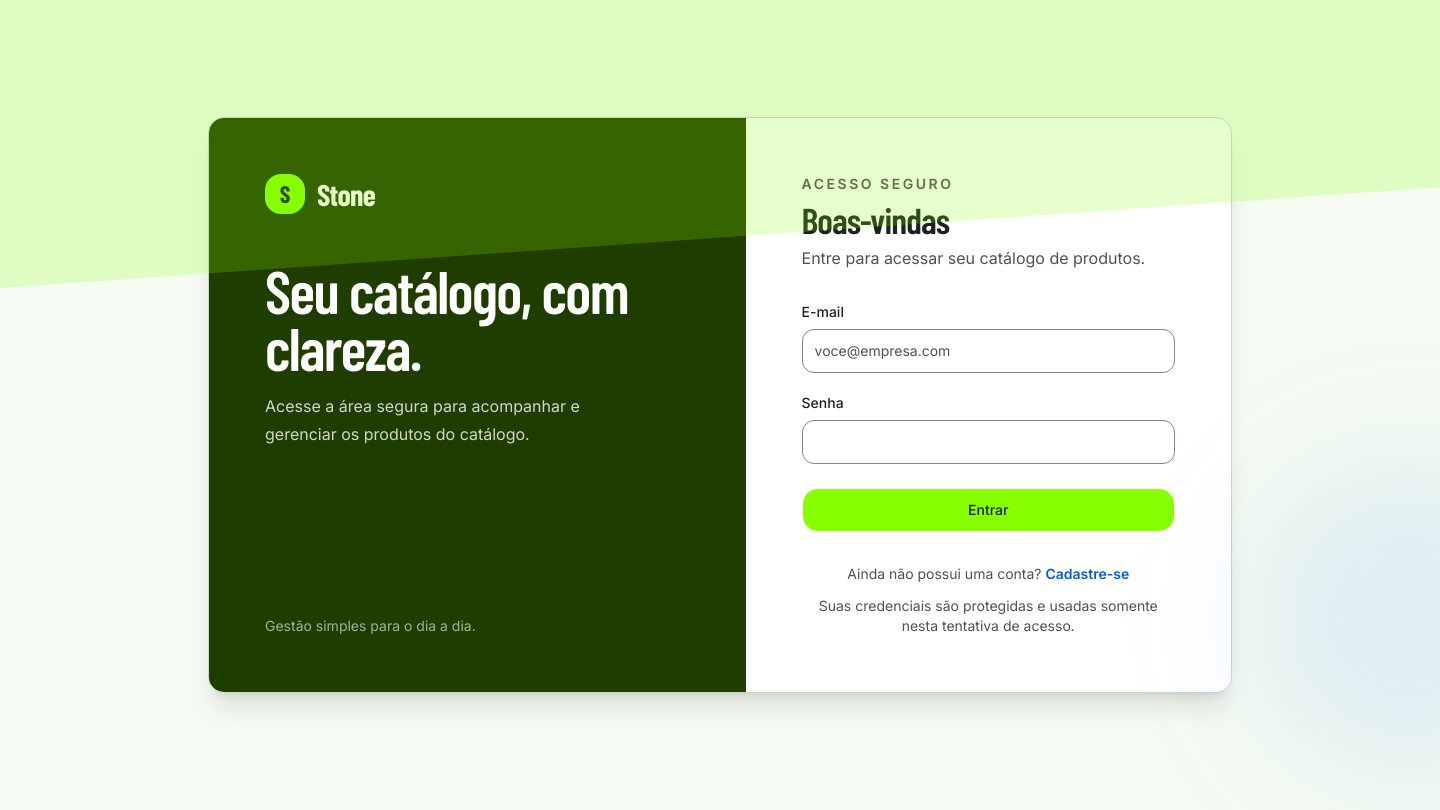
Test case: LoginScreen › expõe campos nomeados e mostra erros de validação próximos aos controles
The width and height of the screenshot is (1440, 810).
Click the button "Entrar". click: coordinates (988, 510)
box: [802,488,1175,532]
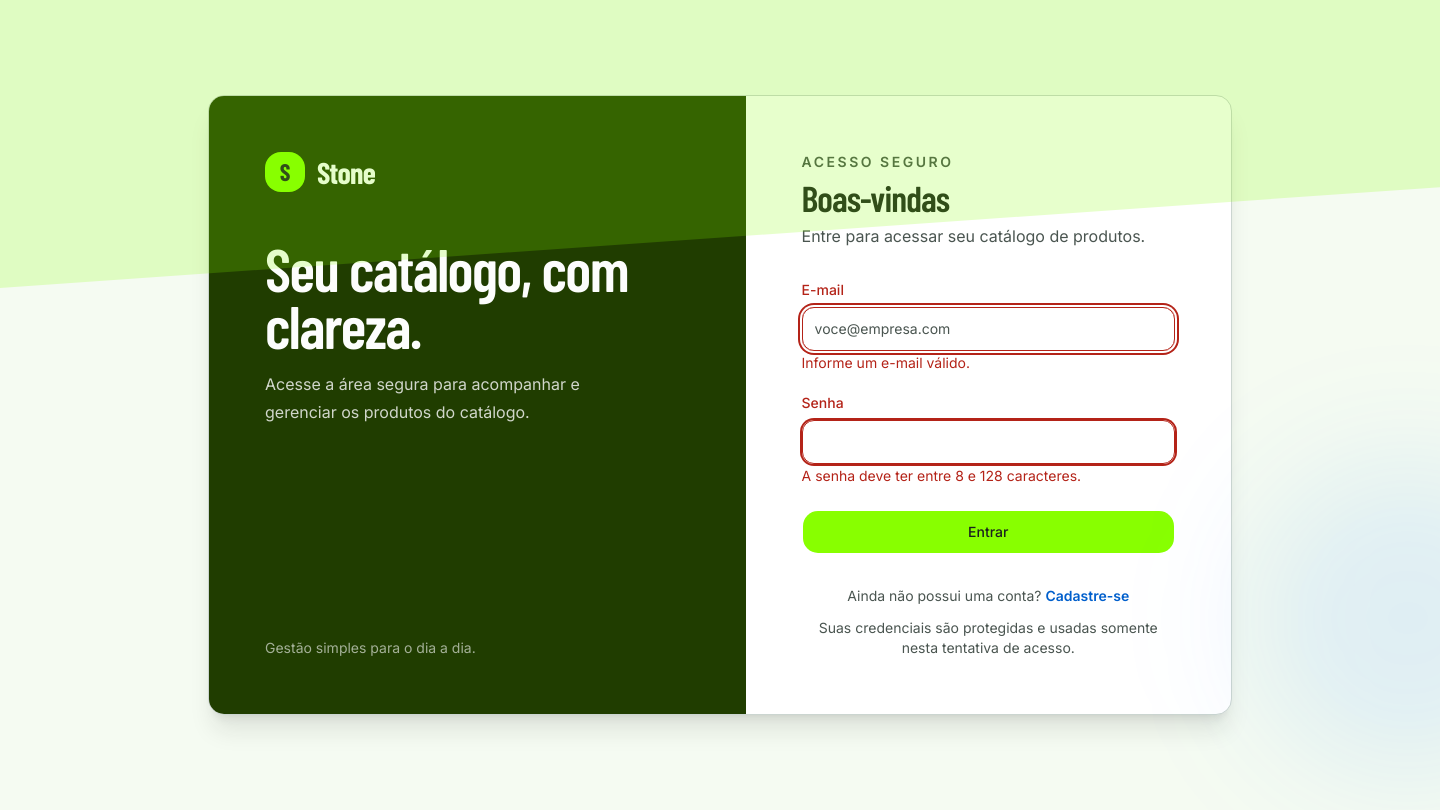
Now the text "Informe um e-mail válido." is shown, box [802,354,970,371]
Now the text "A senha deve ter entre 8 e 128 caracteres." is shown, box [802,467,1081,484]
